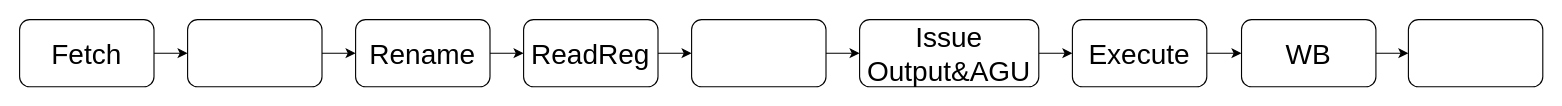
Image size: 1562x106. Some labels were removed from this diagram. Here are the shapes that lost their labels. From the top down, the centre of each, then its label:
[254,52]: Decode
[758,52]: Issue Input
[1475,52]: Commit
